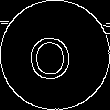O_N: (33, 29, 77, 81)
